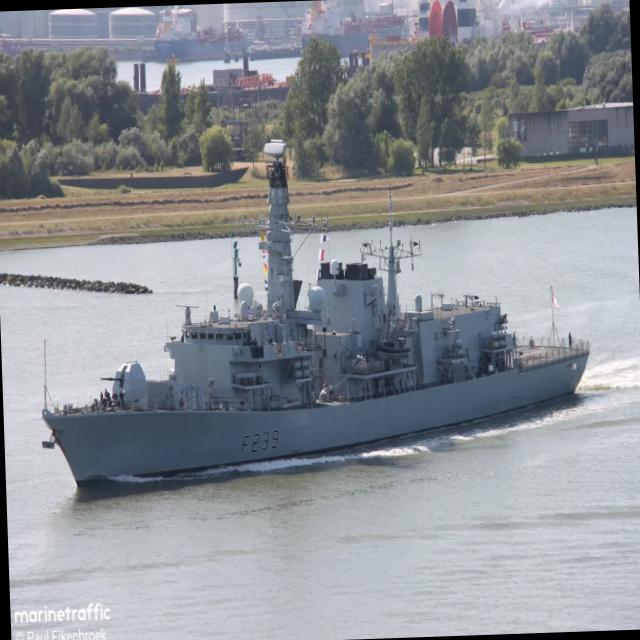Military: (42, 141, 588, 485)
